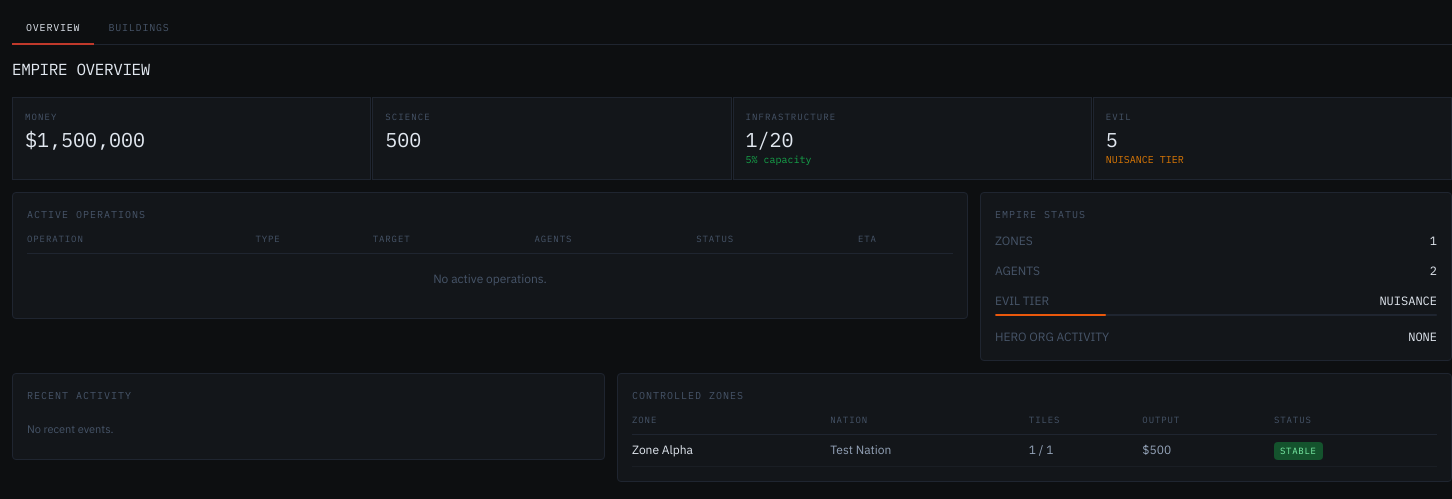
it: EmpireScreen › shows only empire buildings on the Buildings tab
Click the button "BUILDINGS" at (139, 28), box [94,12,184,45]
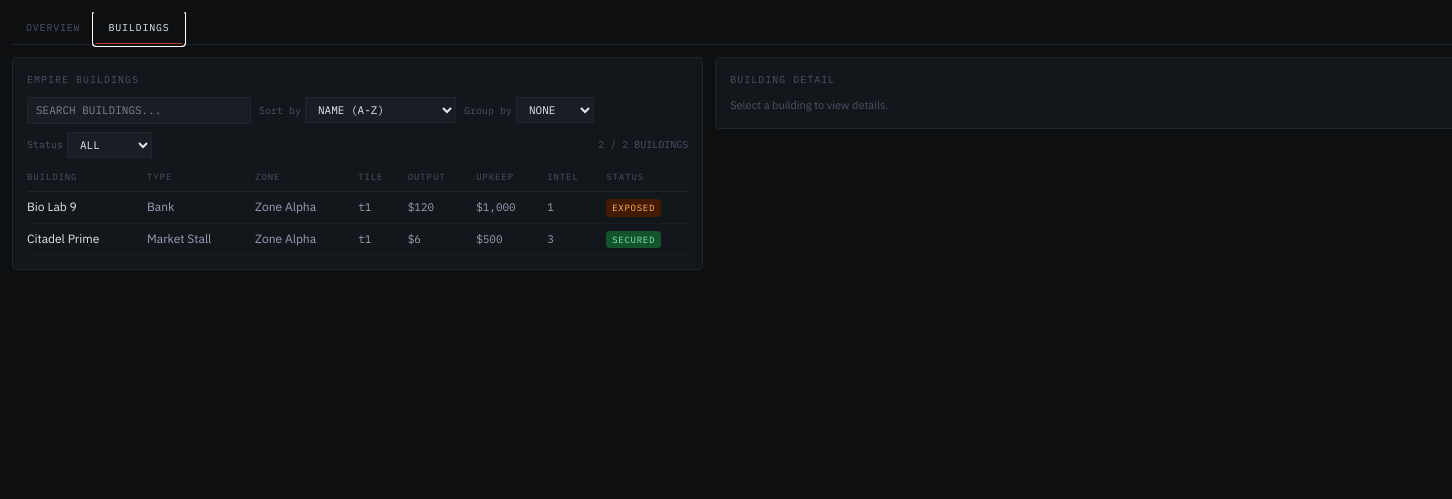
Expected: the text "EMPIRE BUILDINGS" is shown, [27,73,139,86]
Expected: the text "Citadel Prime" is shown, [27,223,147,254]
Expected: the text "Bio Lab 9" is shown, [27,192,147,223]
